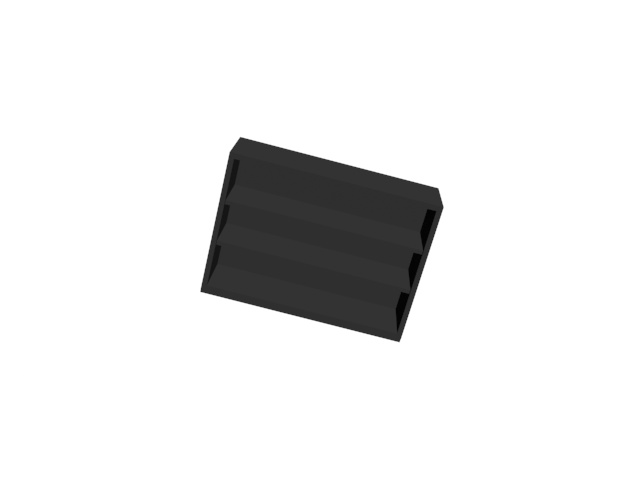bookcase: (201, 137, 448, 344)
